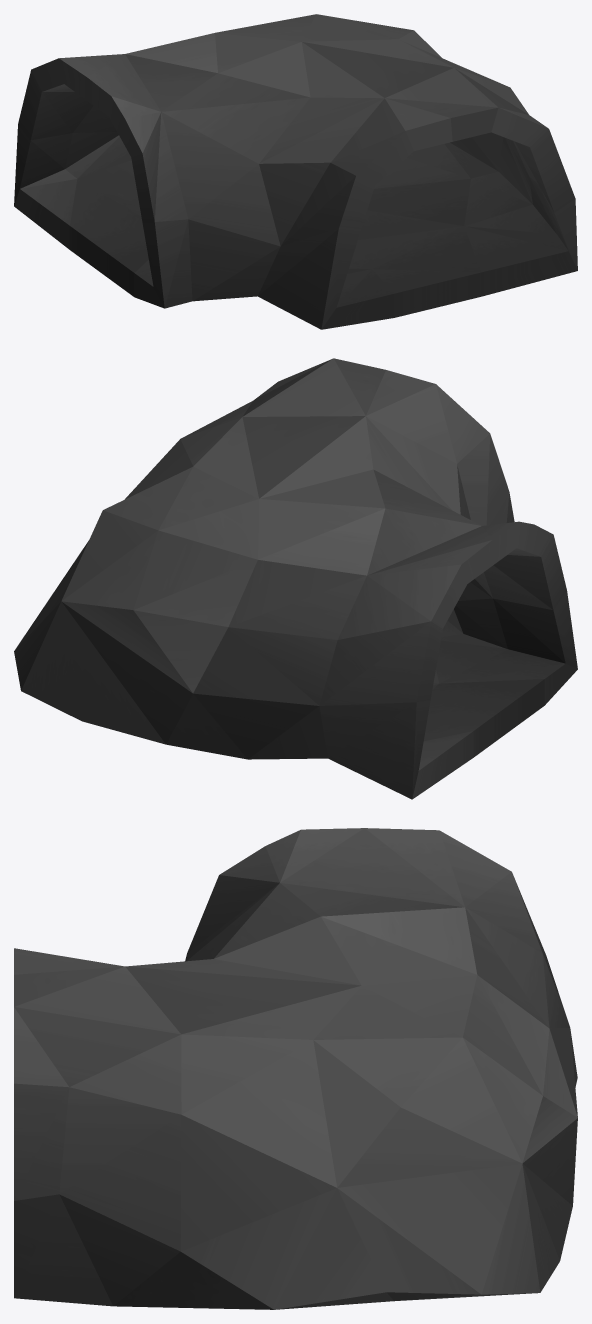
The model's file is GL-Cave-part-06-LOD3.fbx.
3 views of the same model, one above another, from view 1: azimuth 30°, elevation 25°; view 2: azimuth 150°, elevation 25°; view 3: azimuth 270°, elevation 25° (orthographic). The views are drawn at different scales.
Parts seen in each view (by area): view 1: GL_Cave_part_06; view 2: GL_Cave_part_06; view 3: GL_Cave_part_06.
Boxes of the visible parts, x1,y1,x2,y2 form: GL_Cave_part_06: [14, 14, 577, 329]; GL_Cave_part_06: [14, 358, 577, 799]; GL_Cave_part_06: [14, 828, 577, 1309].
Bounding box in the file's own units: 5.18 × 2.3 × 4.8.
